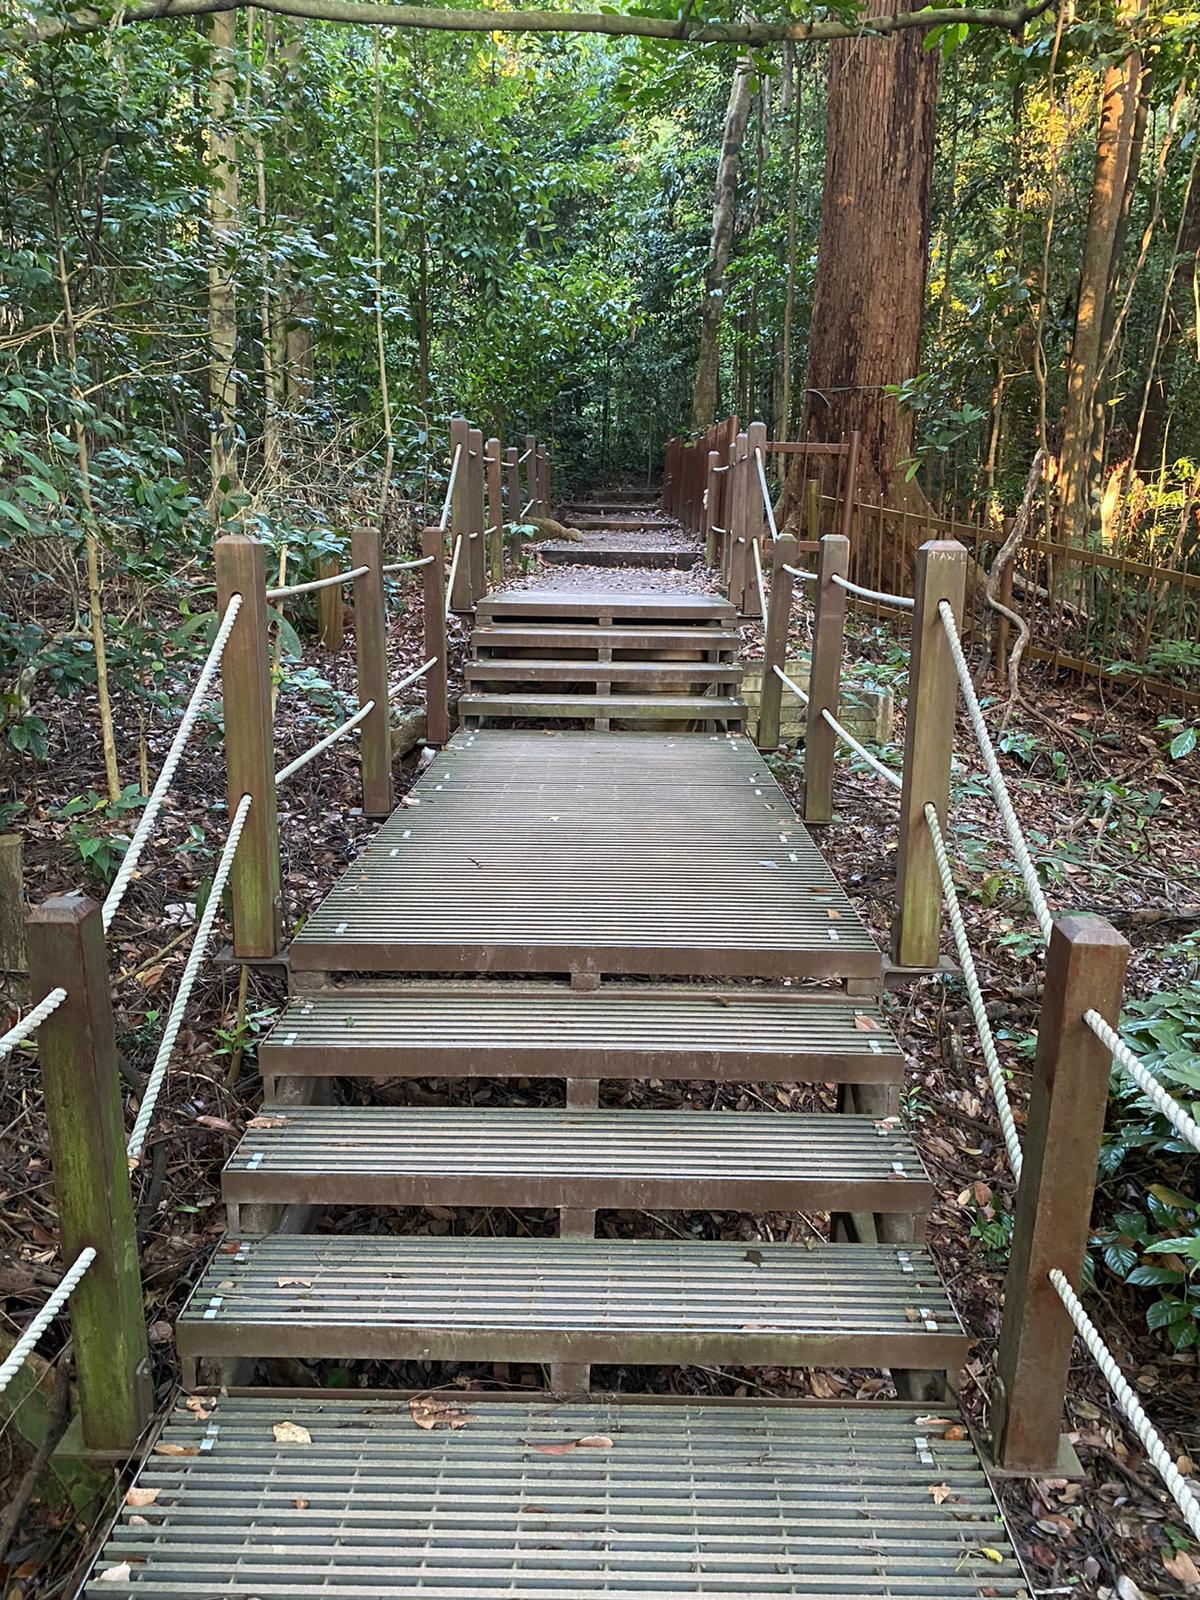upstairs: (231, 1020, 947, 1561)
